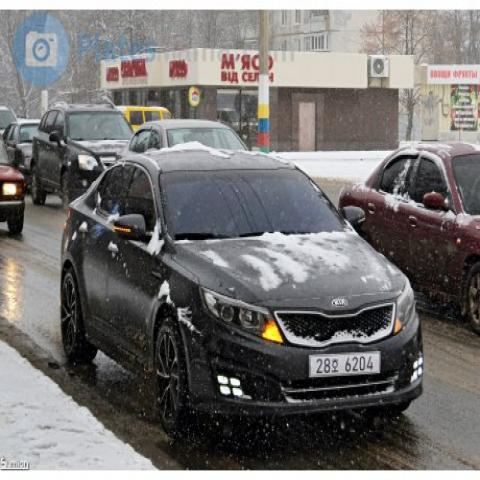LP: (306, 345, 387, 382)
